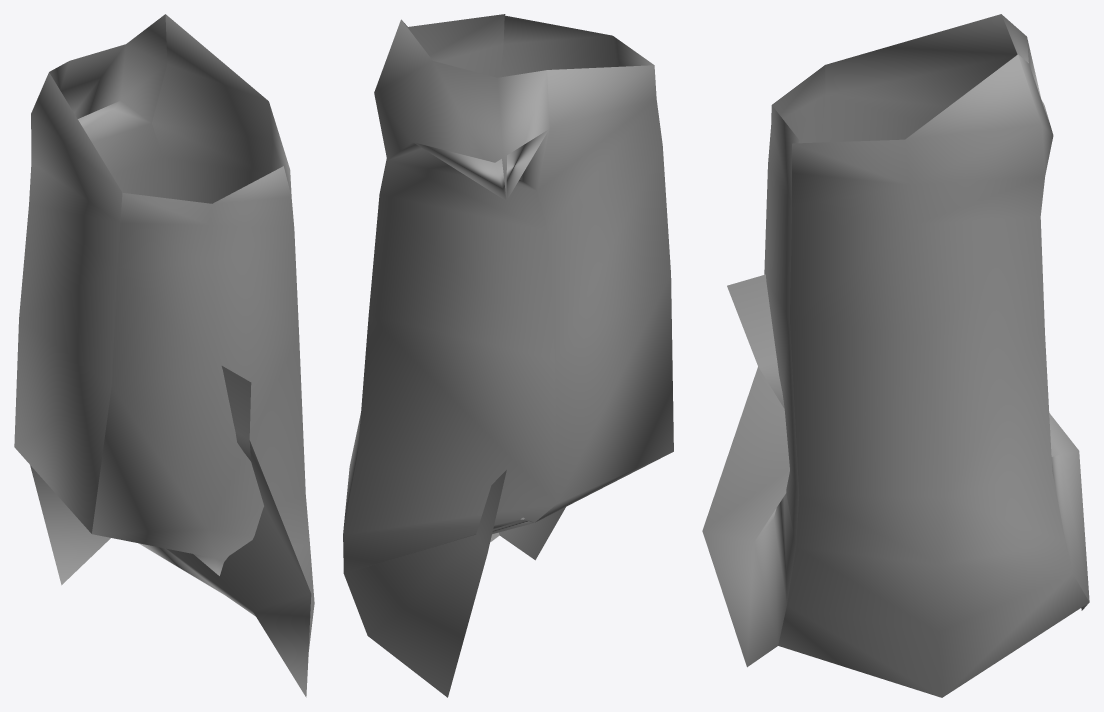
Rendered from right_arm.glb.
The picture shows the model from 3 angles, left to right: view 1: azimuth 30°, elevation 25°; view 2: azimuth 150°, elevation 25°; view 3: azimuth 270°, elevation 25°; orthographic projection. The views are drawn at different scales.
Parts seen in each view (by area): view 1: sweater-grey_RIGHT_ARM; view 2: sweater-grey_RIGHT_ARM; view 3: sweater-grey_RIGHT_ARM.
Part boxes in pixels (x1=…): sweater-grey_RIGHT_ARM: x1=14, y1=14, x2=314, y2=697; sweater-grey_RIGHT_ARM: x1=343, y1=14, x2=673, y2=697; sweater-grey_RIGHT_ARM: x1=702, y1=14, x2=1089, y2=697.
Bounding box in the file's own units: 0.1396 × 0.3239 × 0.1854.
Materials: 1 (1 with a texture image).
